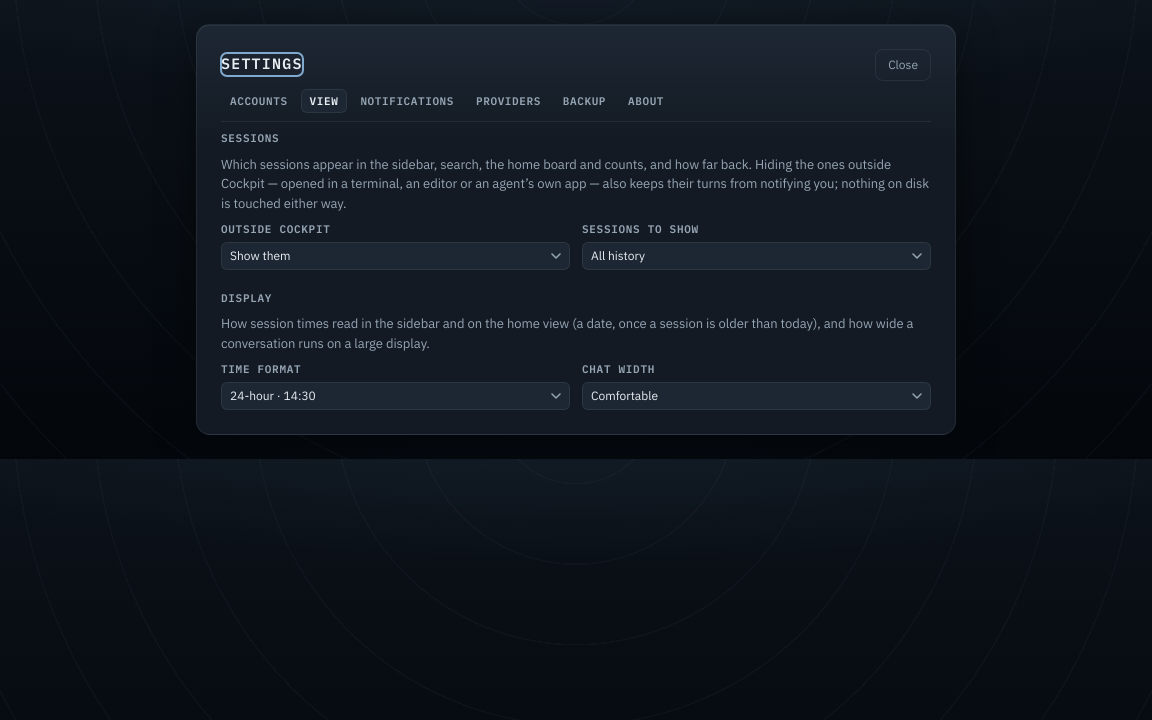
Scenario: Settings time format › persists a change and reflects it in the select
What coordinates should you click on to do the following:
click the button named "Time format 24-hour"
I would click on:
 (262, 404)
Its box is [221,382,570,410].
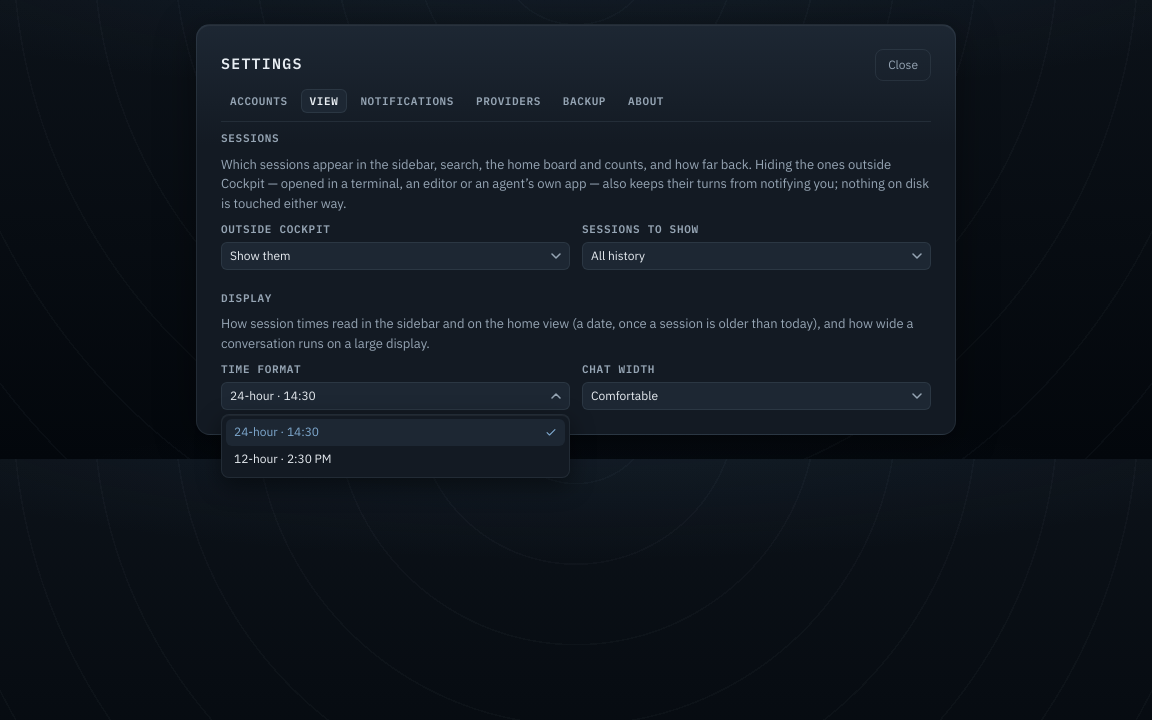
What coordinates should you click on to do the following:
click the option "12-hour · 2:30 PM"
I would click on:
 (283, 458)
Its box is [234,451,332,466].
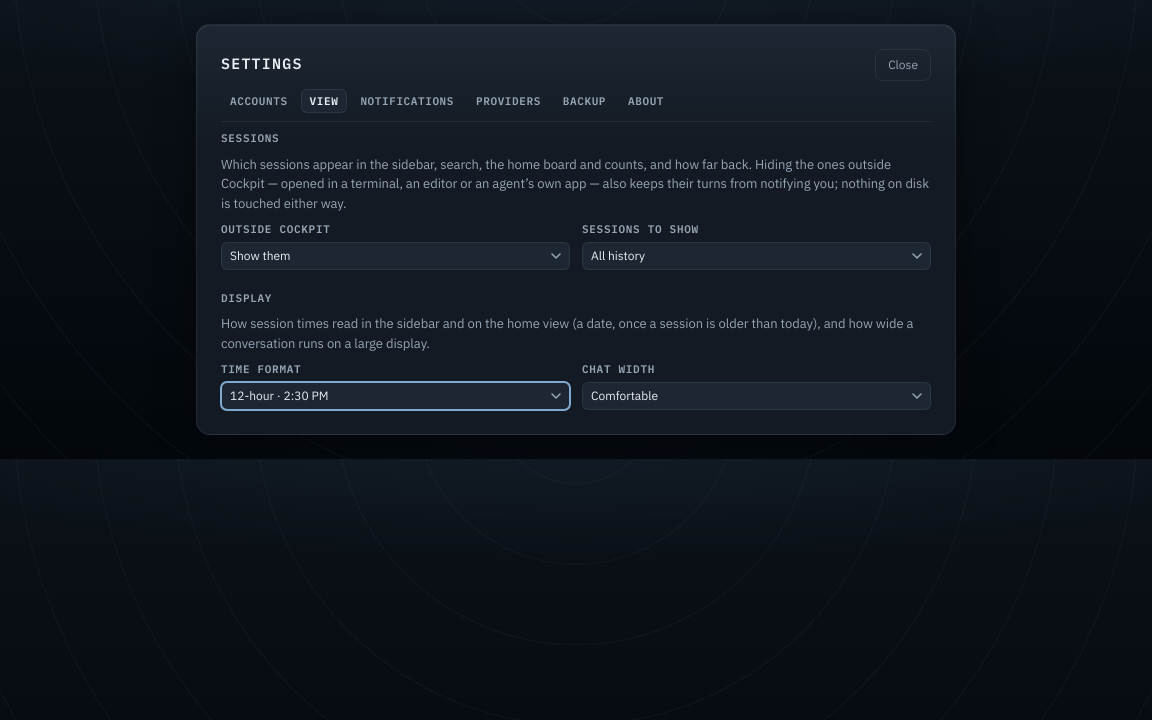
Result: the button named "Time format 12-hour" shows "12-hour" at [221,382,570,410]
